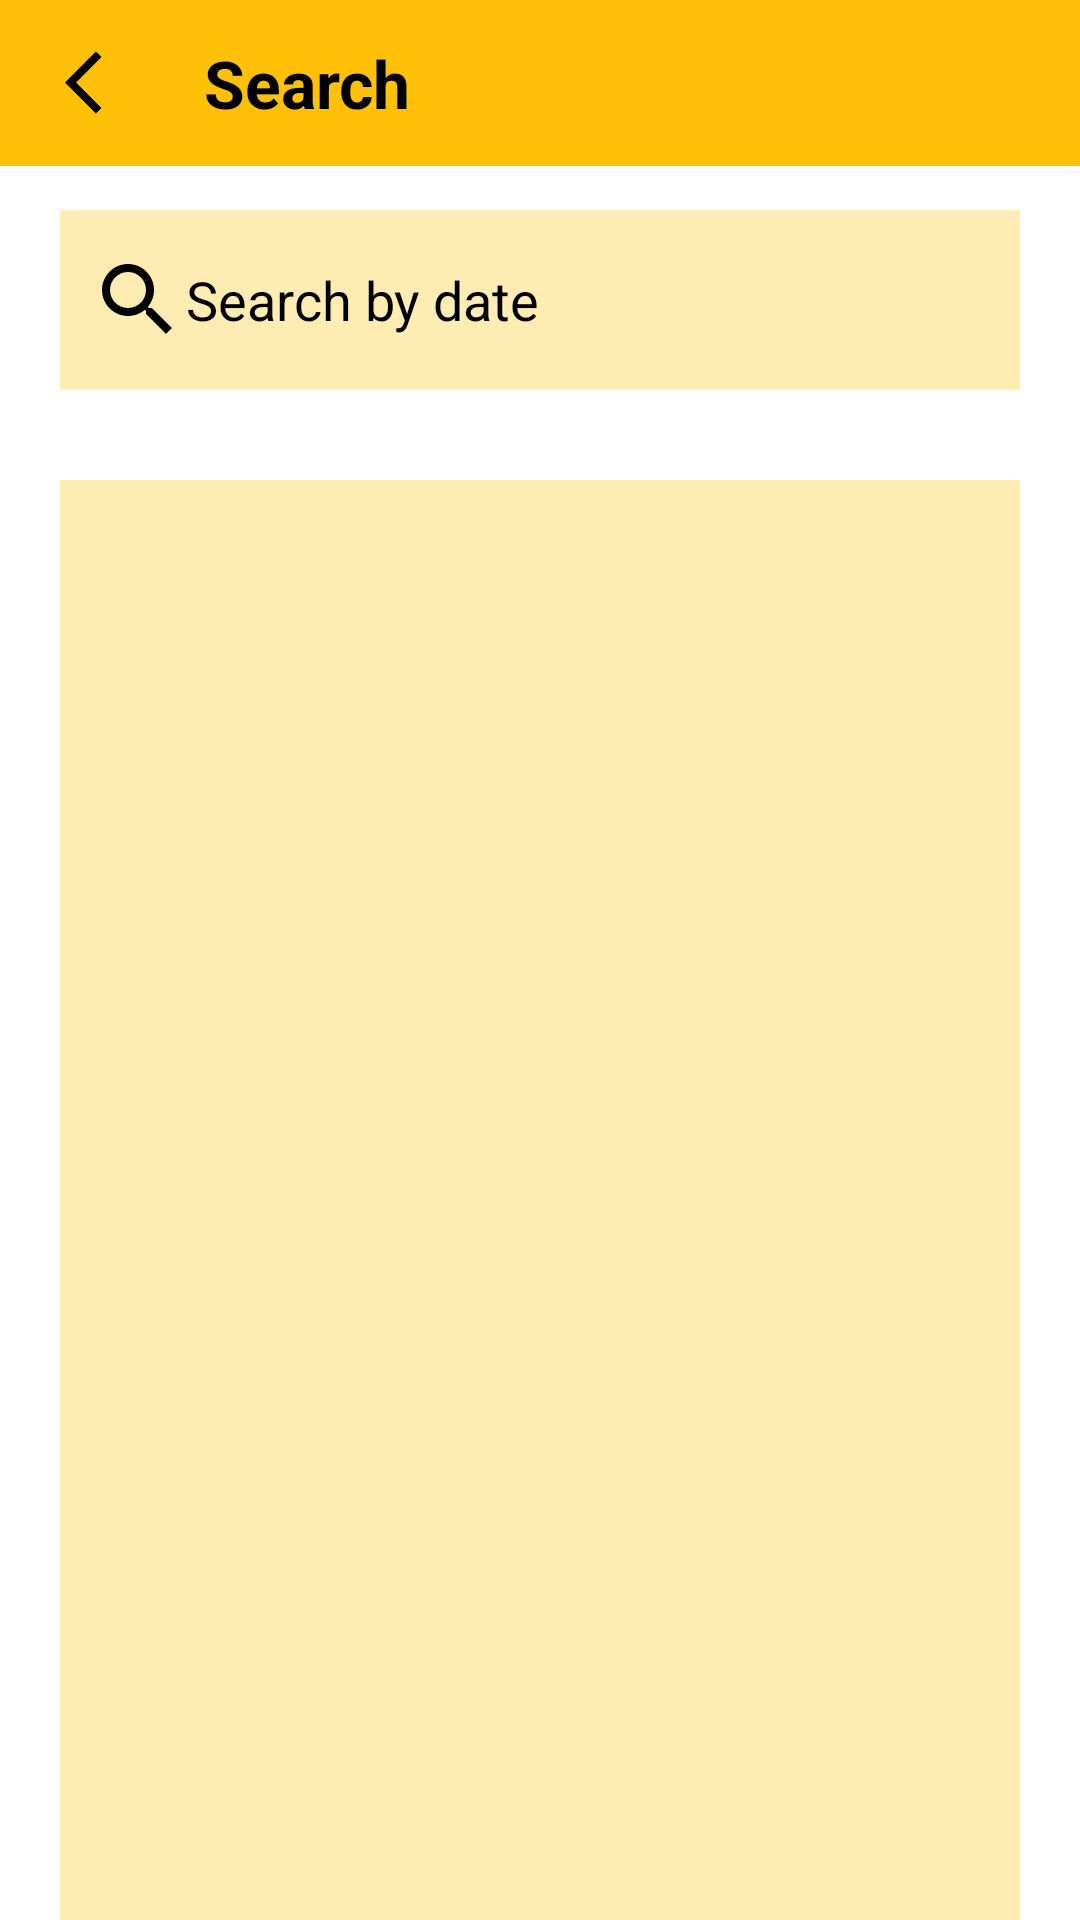

Icons on this 1080w x 1920h Android screen, each with its box as (x1,y1,x2,y2):
arrow back: (65,51,102,114)
